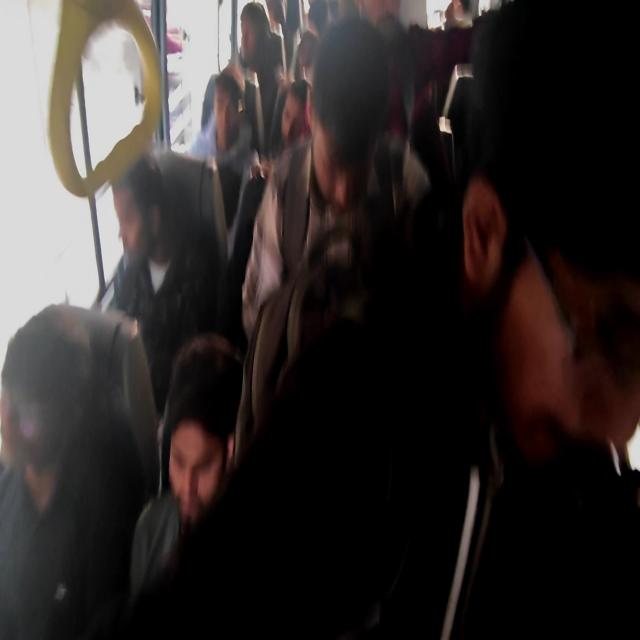person: (2, 1, 638, 637), (445, 1, 639, 637), (0, 301, 158, 638), (239, 15, 393, 347), (128, 331, 244, 635), (105, 152, 218, 414), (200, 1, 283, 160)
